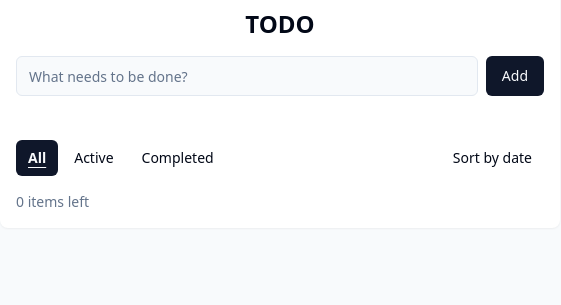
Test: A3 — edit commit/cancel paths › clicking Save commits the edit
Type "orig" into the field named "New todo" at (247, 76), box top-left (16, 56), bottom-right (478, 96)
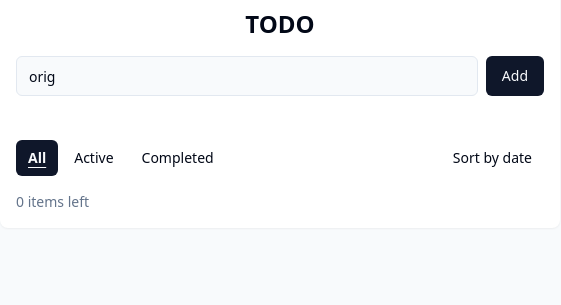
Submit the form named "New todo", box top-left (16, 56), bottom-right (544, 96)
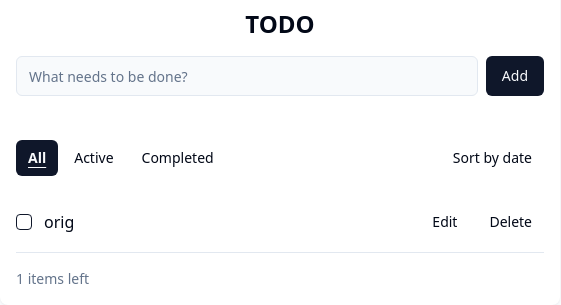
Result: the text "orig" is shown at top-left (44, 211), bottom-right (74, 233)
Click the button "Edit" at (445, 222), box top-left (420, 204), bottom-right (470, 240)
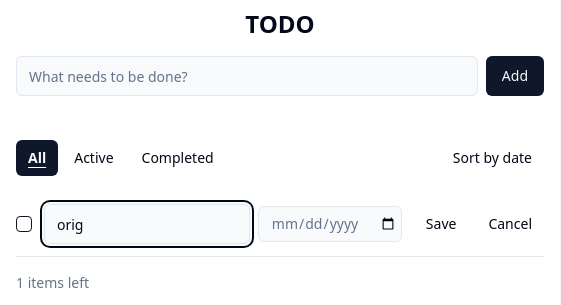
Replace the text in the field named "Edit todo" with "saved via button" at (147, 224), box top-left (44, 204), bottom-right (250, 244)
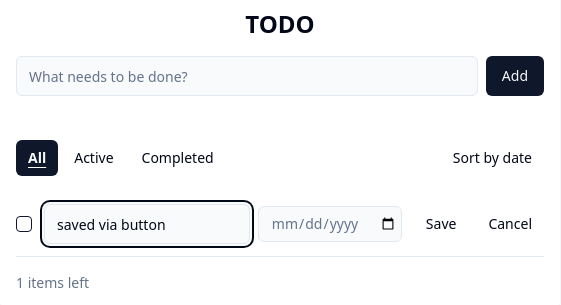
Click the button "Save" at (441, 224), box top-left (414, 206), bottom-right (468, 242)
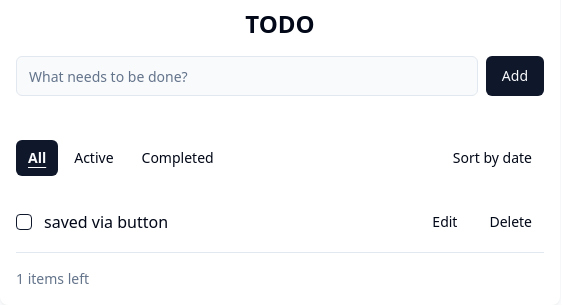
Result: the text "saved via button" is shown at top-left (44, 211), bottom-right (168, 233)
